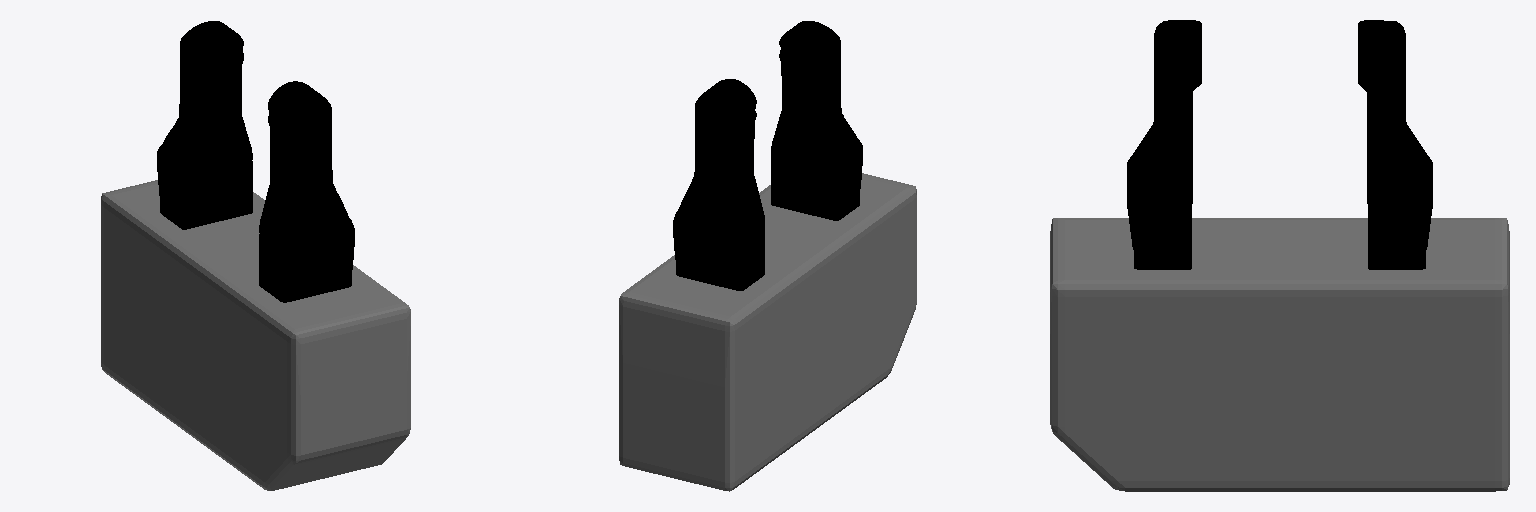
robot.urdf — wsg_50:
<?xml version="1.0"?>
<!-- source: https://github.com/nalt/wsg50-ros-pkg/tree/master/wsg_50_simulation -->
<robot name="wsg_50">

  <link name="world"/>
  <joint name="world_to_palm" type="fixed">
    <parent link="world"/>
    <child link="base_link"/>
    <origin rpy="0 0 -1.5707963267948966" xyz="0 0 -0.075"/>
  </joint>

  <!-- BASE LINK -->
  <link name="base_link">
    <inertial>
      <mass value="1.2" />
      <origin xyz="0 0 0" />
      <inertia  ixx="1.0" ixy="0.0"  ixz="0.0"  iyy="1.0"  iyz="0.0"  izz="1.0" />
    </inertial>

    <visual>
      <origin xyz="0.0 0 0" rpy="0 0 0" />
      <geometry>
        <mesh filename="./meshes/WSG50_110.obj" scale="1 1 1"/>
      </geometry>
      <material name="grey">
        <color rgba="0.5 0.5 0.5 1"/>
      </material>
    </visual>

    <collision>
      <origin xyz="0.0 0 0" rpy="0 0 0" />
      <geometry>
        <mesh filename="./meshes/WSG50_110.obj" scale="1 1 1"/>
      </geometry>
    </collision>
  </link>

  <!-- GRIPPER LEFT -->

  <joint name="base_joint_gripper_left" type="prismatic">
    <limit lower="-0.055" upper="-0.0027" effort="1.0" velocity="1.0"/>
    <origin xyz="0 0 0" rpy="0 0 0" />      <!--origin xyz="-0.0067 0 0.049" rpy="0 0 0" /-->
    <parent link="base_link"/>
    <child link="gripper_left" />
    <dynamics friction="100" damping="100" />
    <axis xyz="1 0 0"/>
    <!-- <limit effort="100" velocity="100"/> -->
  </joint>

  <link name="gripper_left">
    <inertial>
      <mass value="0.1" />
      <origin xyz="0 0 0" />
      <inertia ixx="1.0" ixy="0.0" ixz="0.0"
                iyy="1.0" iyz="0.0" 
                izz="1.0" />
    </inertial>

    <visual>
      <origin xyz="0.0 0 0" rpy="0 0 0" />
      <geometry>
        <mesh filename="./meshes/GUIDE_WSG50_110.obj"/>
      </geometry>
      <material name="black">
        <color rgba="0 0 0 0"/>
      </material>
    </visual>

    <collision>
      <origin xyz="0 0 0" rpy="0 0 0" />
      <geometry>
        <mesh filename="./meshes/GUIDE_WSG50_110.obj"/>
      </geometry>
    </collision>
  </link>

  <!-- LEFT FINGER -->

  <joint name="guide_joint_finger_left" type="fixed">
    <origin xyz="0 0 0.023" rpy="0 0 0" />
    <parent link="gripper_left"/>
    <child link="finger_left" />
    <dynamics friction="100" damping="100" />
    <axis xyz="1 0 0"/>
    <!-- <limit effort="100" velocity="100"/> -->
  </joint>

  <link name="finger_left">
    <inertial>
      <mass value="0.1" />
      <origin xyz="0 0 0" />
      <inertia ixx="1.0" ixy="0.0" ixz="0.0"
                iyy="1.0" iyz="0.0" 
                izz="1.0" />
    </inertial>

    <visual>
      <origin xyz="0.0 0 0" rpy="0 0 0" />
      <geometry>
        <mesh filename="./meshes/WSG-FMF.obj"/>
      </geometry>
      <material name="black">
        <color rgba="0 0 0 0"/>
      </material>
    </visual>

    <collision>
      <origin xyz="0 0 0" rpy="0 0 0" />
      <geometry>
        <mesh filename="./meshes/WSG-FMF.obj"/>
      </geometry>
    </collision>
  </link>

  <link name="left_finger_tip"/>
  <joint name="left_finger_dist_to_tip" type="fixed">
    <parent link="finger_left"/>
    <child link="left_finger_tip"/>
    <origin rpy="0 0 0" xyz="0.0 0.0 0.128"/>
  </joint>

  <!-- GRIPPER RIGHT -->

  <joint name="base_joint_gripper_right" type="prismatic">
     <limit lower="0.0027" upper="0.055" effort="1.0" velocity="1.0"/>
     <origin xyz="0 0 0" rpy="0 0 3.14159" />
     <parent link="base_link"/>
     <child link="gripper_right" />
     <axis xyz="-1 0 0"/>
     <dynamics friction="100" damping="100" />
     <!-- <limit effort="100" velocity="100"/> -->
  </joint>
	
  <link name="gripper_right">
    <inertial>
      <mass value="0.1" />
      <origin xyz="0 0 0" />
      <inertia ixx="1.0" ixy="0.0" ixz="0.0"
              iyy="1.0" iyz="0.0" 
              izz="1.0" />
    </inertial>

    <visual>
      <origin xyz="0.0 0 0" rpy="0 0 0" />
      <geometry>
        <mesh filename="./meshes/GUIDE_WSG50_110.obj"/>
      </geometry>
      <material name="black">
        <color rgba="0 0 0 0"/>
      </material>
    </visual>

    <collision>
      <origin xyz="0 0 0" rpy="0 0 0" />
      <geometry>
        <mesh filename="./meshes/GUIDE_WSG50_110.obj"/>
      </geometry>
    </collision>
  </link>

  <!-- RIGHT FINGER -->

  <joint name="guide_joint_finger_right" type="fixed">
    <origin xyz="0 0 0.023" rpy="0 0 0" />
    <parent link="gripper_right"/>
    <child link="finger_right" />
    <dynamics friction="100" damping="100" />
    <axis xyz="1 0 0"/>
    <!-- <limit effort="100" velocity="100"/> -->
  </joint>

  <link name="finger_right">
    <inertial>
      <mass value="0.1" />
      <origin xyz="0 0 0" />
      <inertia ixx="1.0" ixy="0.0" ixz="0.0"
                iyy="1.0" iyz="0.0" 
                izz="1.0" />
    </inertial>

    <visual>
      <origin xyz="0.0 0 0" rpy="0 0 0" />
      <geometry>
        <mesh filename="./meshes/WSG-FMF.obj"/>
      </geometry>
      <material name="black">
        <color rgba="0 0 0 0"/>
      </material>
    </visual>

    <collision>
      <origin xyz="0 0 0" rpy="0 0 0" />
      <geometry>
        <mesh filename="./meshes/WSG-FMF.obj"/>
      </geometry>
    </collision>
  </link>

  <link name="right_finger_tip"/>
  <joint name="right_finger_dist_to_tip" type="fixed">
    <parent link="finger_right"/>
    <child link="right_finger_tip"/>
    <origin rpy="0 0 0" xyz="0.0 0.0 0.128"/>
  </joint>

</robot>

--- What the picture shows (computed from the rendered views, not written in the file) ---
The picture shows the robot from 3 angles, left to right: view 1: azimuth 30°, elevation 25°; view 2: azimuth 150°, elevation 25°; view 3: azimuth 270°, elevation 25°; orthographic projection.
Model wsg_50 with 8 links and 7 joints (2 prismatic, 5 fixed), rooted at world, posed all joints at 0 but 2 set to mid-range because 0 is outside their limits (base_joint_gripper_left = -0.0289, base_joint_gripper_right = 0.0289).
Visible links, largest first — view 1: base_link, finger_right, finger_left, gripper_left, gripper_right; view 2: base_link, finger_left, finger_right, gripper_right, gripper_left; view 3: base_link, finger_right, finger_left, gripper_left, gripper_right.
Link boxes in pixels (x1,y1,x2,y2): base_link: (101,180,410,490); finger_right: (259,81,354,286); finger_left: (157,21,252,202); gripper_left: (160,154,252,229); gripper_right: (259,234,351,302); base_link: (619,173,916,491); finger_left: (673,79,764,275); finger_right: (771,21,862,195); gripper_right: (771,148,859,220); gripper_left: (676,225,764,290); base_link: (1050,218,1509,491); finger_right: (1127,20,1201,250); finger_left: (1358,20,1432,250); gripper_left: (1368,207,1425,269); gripper_right: (1134,207,1191,269).
Bounding box of the posed robot: 0.0527 × 0.1486 × 0.1554 m (x, y, z).
5 mesh visuals loaded from 3 distinct referenced files (3 OBJ).